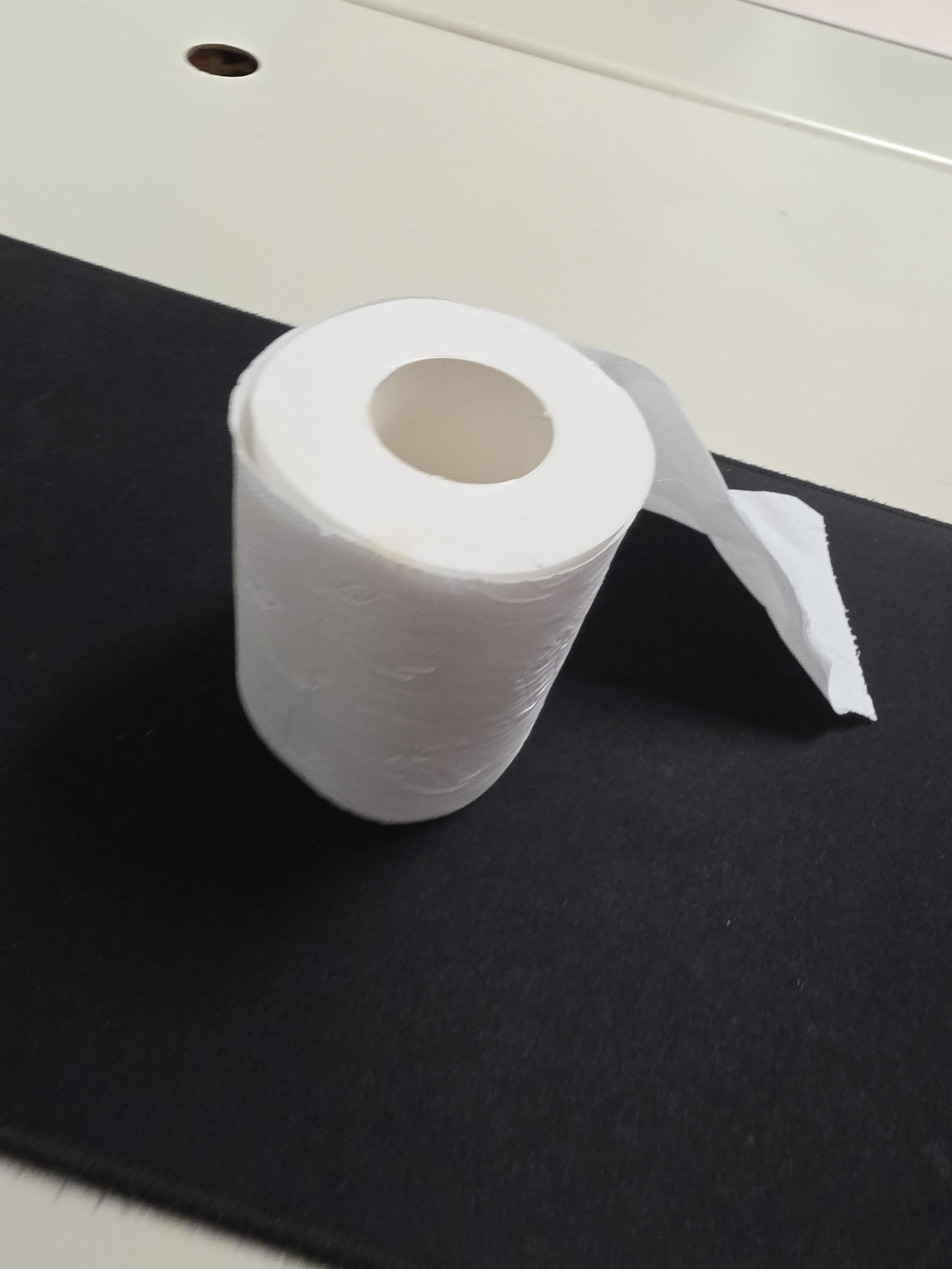tissue: (226, 295, 878, 827)
